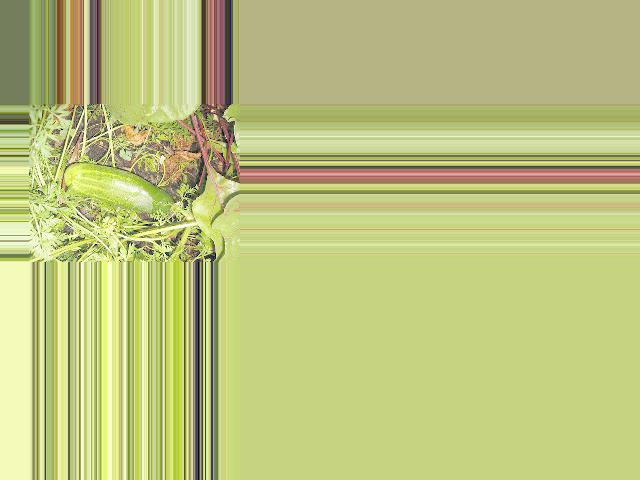cucumber: (66, 162, 174, 216)
